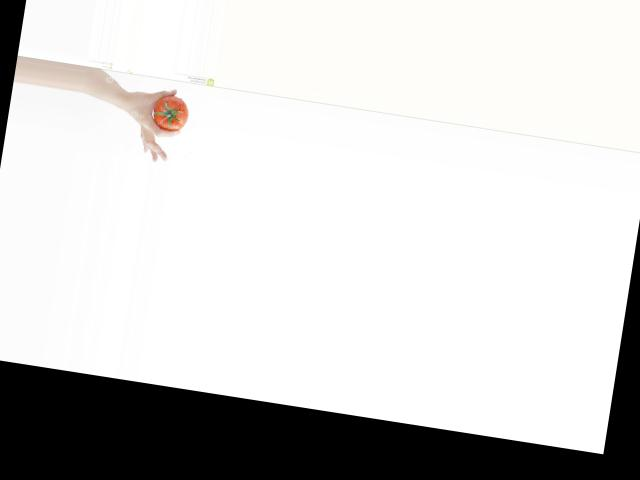tomato: (150, 93, 190, 133)
